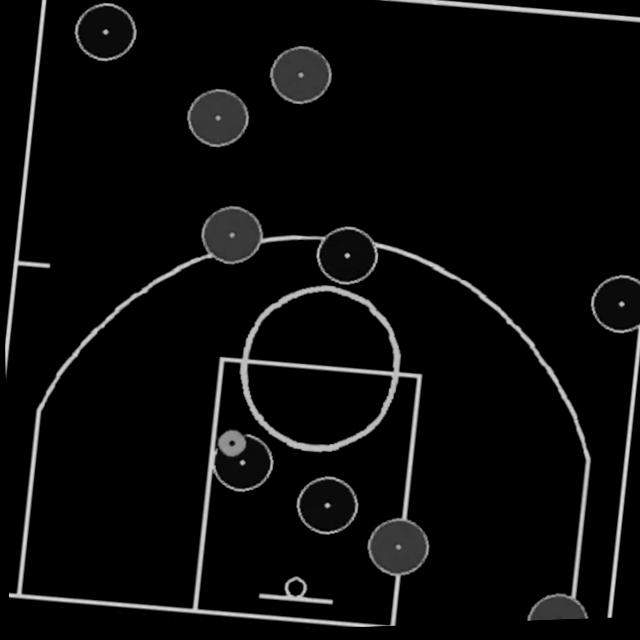Basketball: (215, 431, 245, 458)
Team_A: (294, 479, 356, 537), (315, 229, 377, 287), (74, 4, 136, 62), (210, 435, 271, 493), (589, 280, 640, 338)
Team_B: (269, 48, 332, 107), (186, 90, 248, 149), (365, 521, 427, 579), (200, 208, 262, 266), (525, 597, 586, 625)
